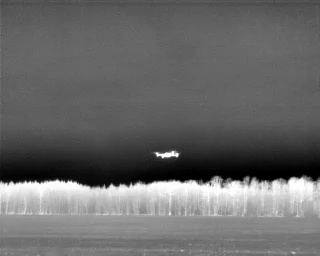DRONE: (148, 145, 184, 163)
